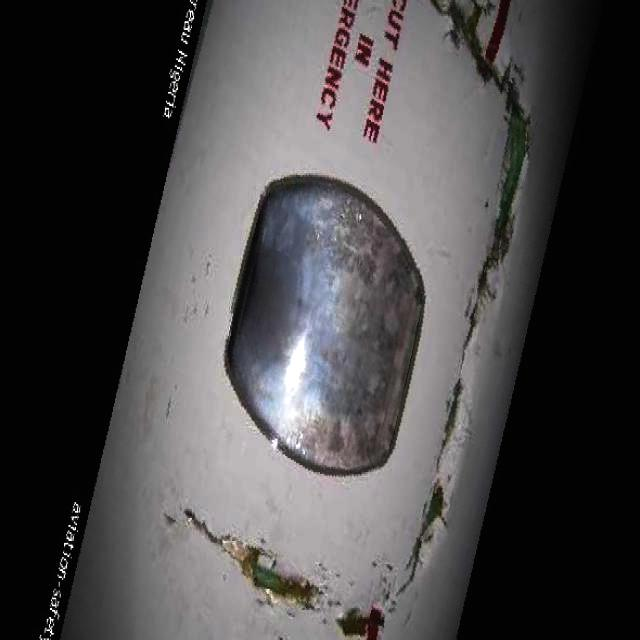crack: (393, 0, 531, 600), (183, 507, 322, 610), (335, 604, 367, 636)
